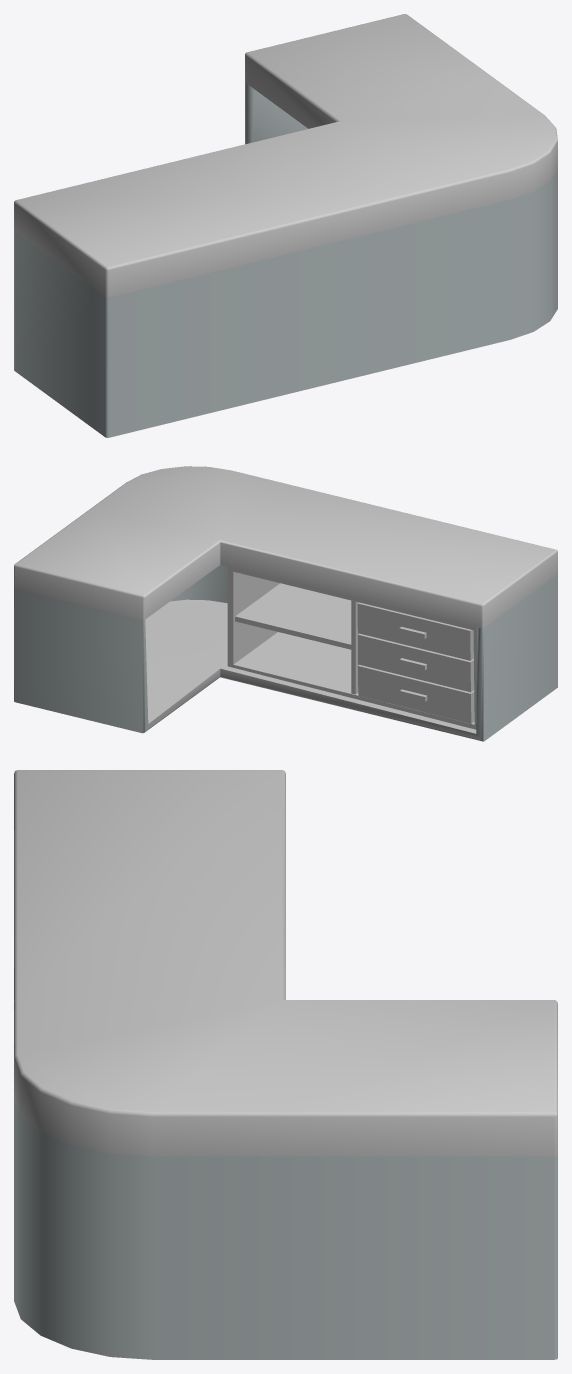
Rendered from Vault-Section-Cabinet-1.fbx.
The picture shows the model from 3 angles, top to bottom: view 1: azimuth 30°, elevation 25°; view 2: azimuth 150°, elevation 25°; view 3: azimuth 270°, elevation 25°; orthographic projection. The views are drawn at different scales.
Parts seen in each view (by area): view 1: Vault-Section-Cabinet; view 2: Vault-Section-Cabinet, Vault-Section-Cabinet-Drawer-3, Vault-Section-Cabinet-Drawer-2, Vault-Section-Cabinet-Drawer-1; view 3: Vault-Section-Cabinet.
Boxes of the visible parts, x1,y1,x2,y2 form: Vault-Section-Cabinet: [14, 14, 557, 437]; Vault-Section-Cabinet: [14, 466, 557, 741]; Vault-Section-Cabinet-Drawer-3: [358, 665, 474, 723]; Vault-Section-Cabinet-Drawer-2: [358, 633, 474, 692]; Vault-Section-Cabinet-Drawer-1: [357, 602, 473, 660]; Vault-Section-Cabinet: [14, 770, 557, 1359].
Size of the model in its own units: 3 by 1 by 2.
